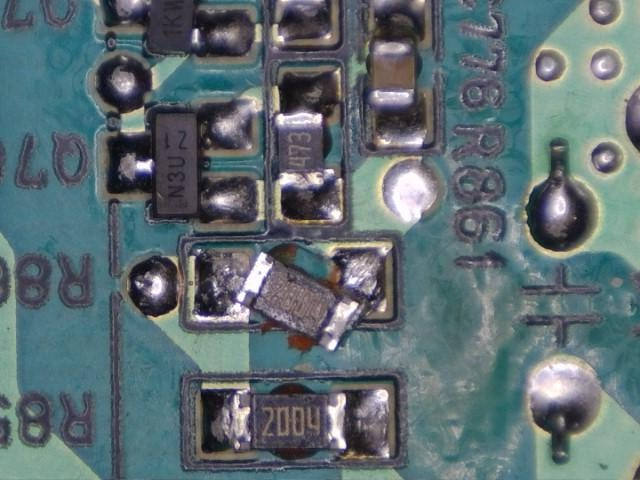pcb_defect: (190, 246, 388, 353), (276, 72, 342, 221), (367, 0, 427, 145)
